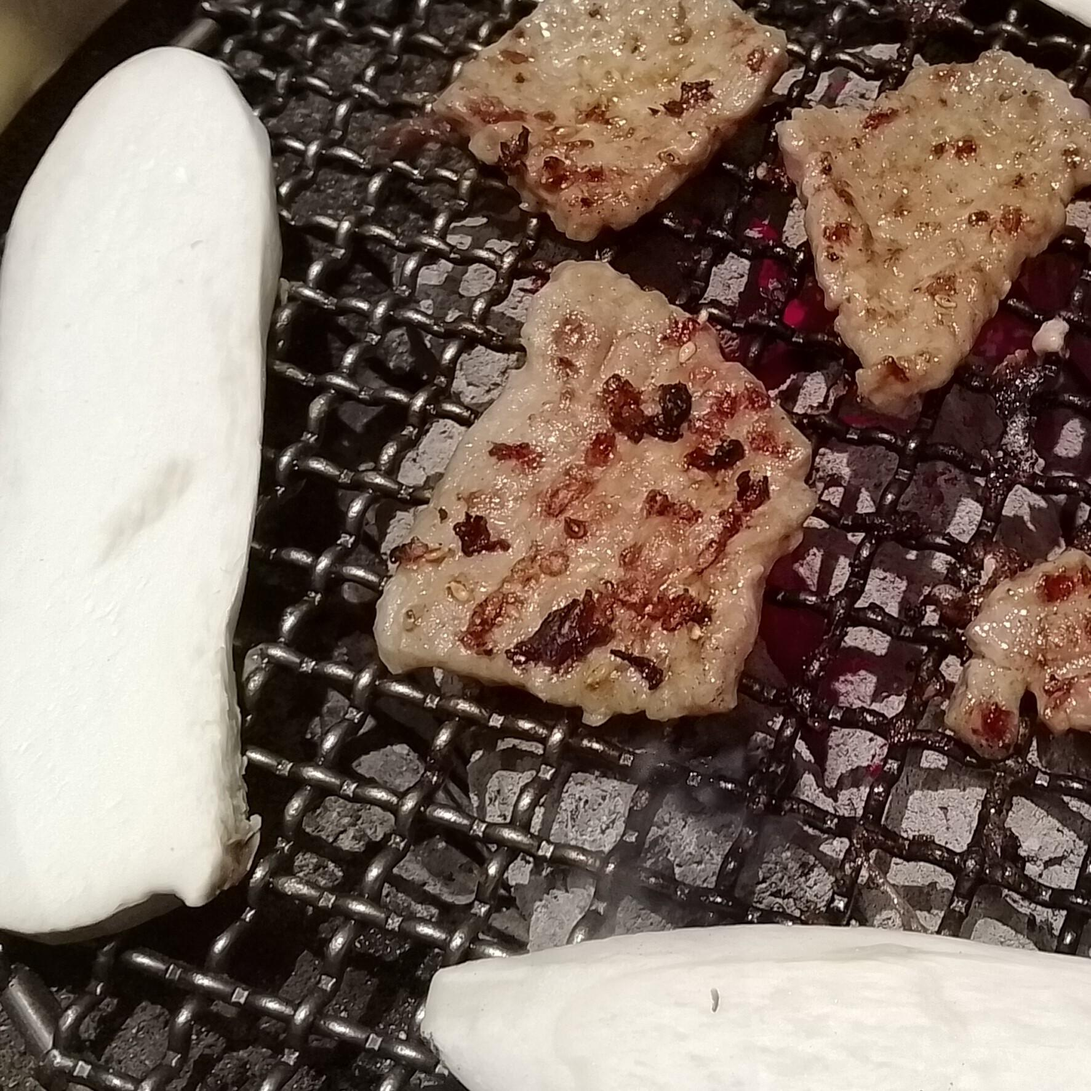Overcooked: (371, 259, 815, 725), (422, 0, 797, 247)
Well-Cooked: (775, 47, 1090, 415), (944, 544, 1090, 762)
